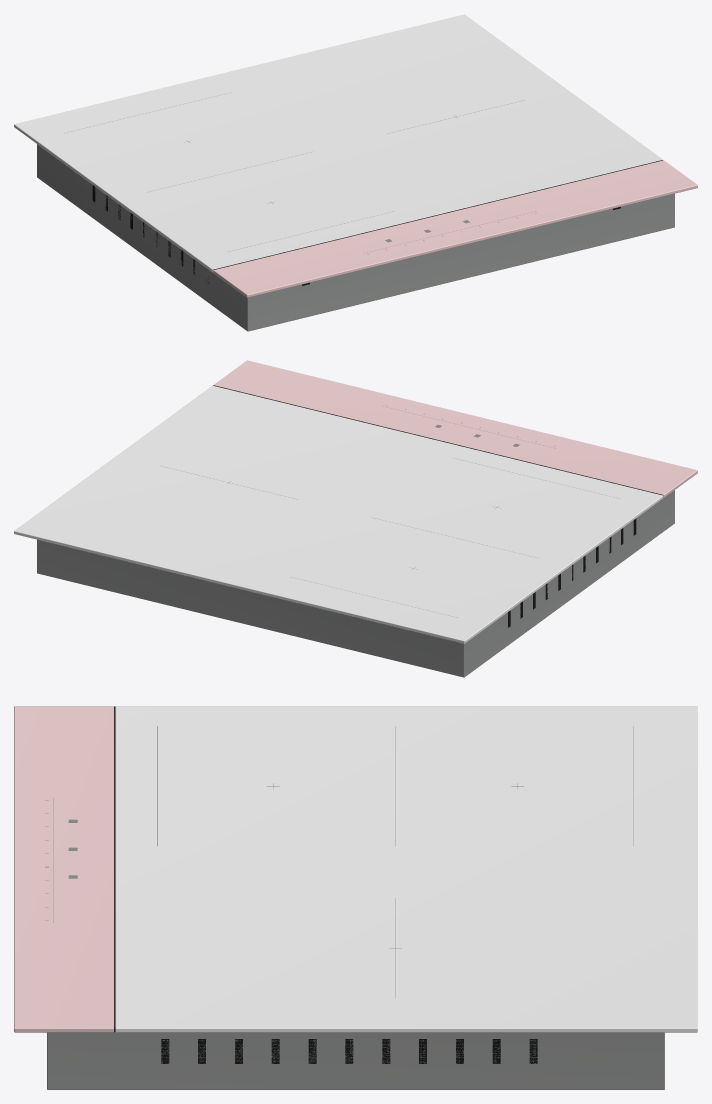
Rendered from BEF3ANPL-b68-3b66f3.glb.
3 renders of one model, top to bottom at view 1: azimuth 30°, elevation 25°; view 2: azimuth 150°, elevation 25°; view 3: azimuth 270°, elevation 25°, orthographic. The views are drawn at different scales.
Parts seen in each view (by area): view 1: CeramicGlass, LowerCase, ControlGlass, ControlSeam, SliderTick_0; view 2: CeramicGlass, LowerCase, ControlGlass, ControlSeam, B68_FrontSlot_200, SliderTick_0; view 3: CeramicGlass, LowerCase, ControlGlass, B68_FrontSlot_200, SliderTick_0, ControlSeam.
Boxes of the visible parts, left/top/right/bottom form: CeramicGlass: left=14, top=14, right=662, bottom=272; LowerCase: left=37, top=144, right=674, bottom=331; ControlGlass: left=213, top=160, right=697, bottom=297; ControlSeam: left=213, top=160, right=662, bottom=269; SliderTick_0: left=64, top=92, right=536, bottom=254; CeramicGlass: left=14, top=385, right=663, bottom=643; LowerCase: left=37, top=490, right=674, bottom=677; ControlGlass: left=213, top=360, right=697, bottom=497; ControlSeam: left=213, top=385, right=663, bottom=495; B68_FrontSlot_200: left=508, top=518, right=636, bottom=627; SliderTick_0: left=161, top=405, right=620, bottom=617; CeramicGlass: left=115, top=706, right=697, bottom=1032; LowerCase: left=47, top=1032, right=664, bottom=1089; ControlGlass: left=14, top=706, right=113, bottom=1032; B68_FrontSlot_200: left=161, top=1039, right=537, bottom=1063; SliderTick_0: left=45, top=726, right=633, bottom=997; ControlSeam: left=114, top=706, right=115, bottom=1032.
Size of the model in its own units: 0.58 by 0.059 by 0.52.
